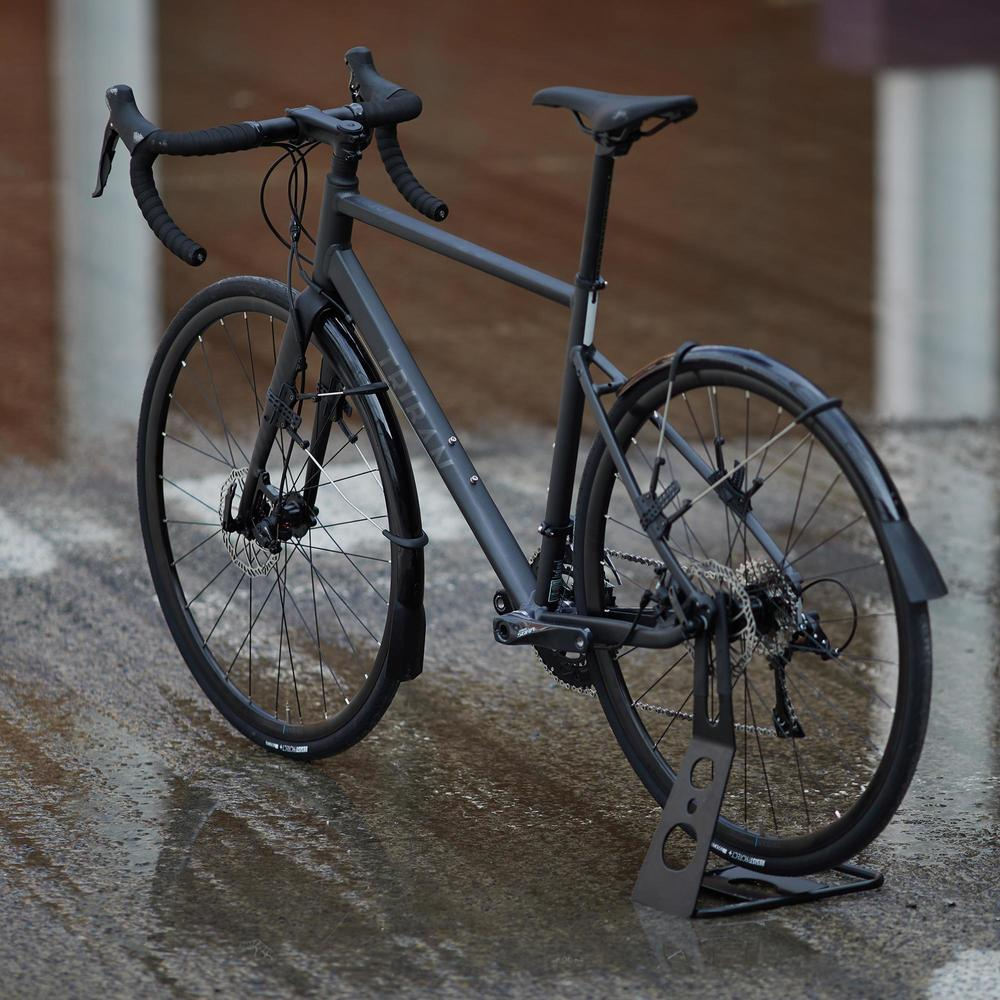RoadBike: (87, 42, 945, 910)
